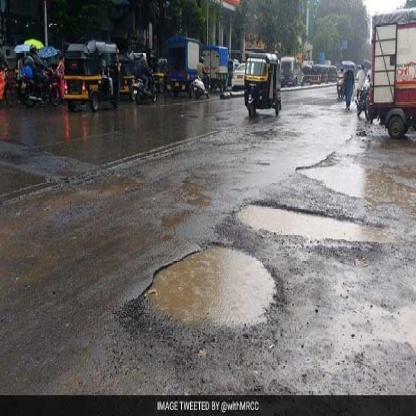pothole: (123, 226, 285, 366), (222, 184, 412, 268)
